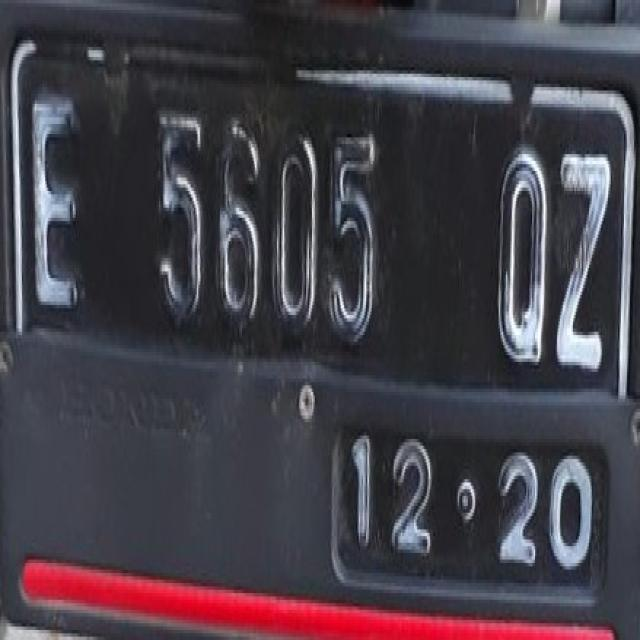plate: (6, 7, 633, 580)
